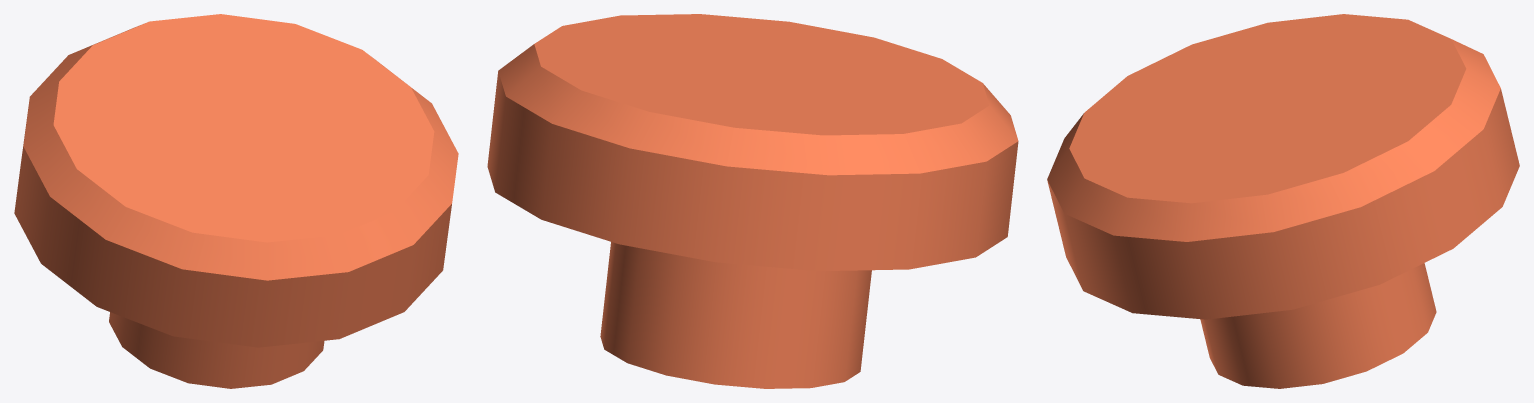
Rendered from orangeButt.gltf.
3 renders of one model, left to right at view 1: azimuth 30°, elevation 25°; view 2: azimuth 150°, elevation 25°; view 3: azimuth 270°, elevation 25°, orthographic. The views are drawn at different scales.
Visible parts, largest first — view 1: orangeButt; view 2: orangeButt; view 3: orangeButt.
Boxes of the visible parts, left/top/right/bottom form: orangeButt: left=14, top=14, right=458, bottom=388; orangeButt: left=487, top=14, right=1018, bottom=388; orangeButt: left=1047, top=14, right=1519, bottom=388.
Bounding box in the file's own units: 0.8 × 0.5486 × 0.8137.
